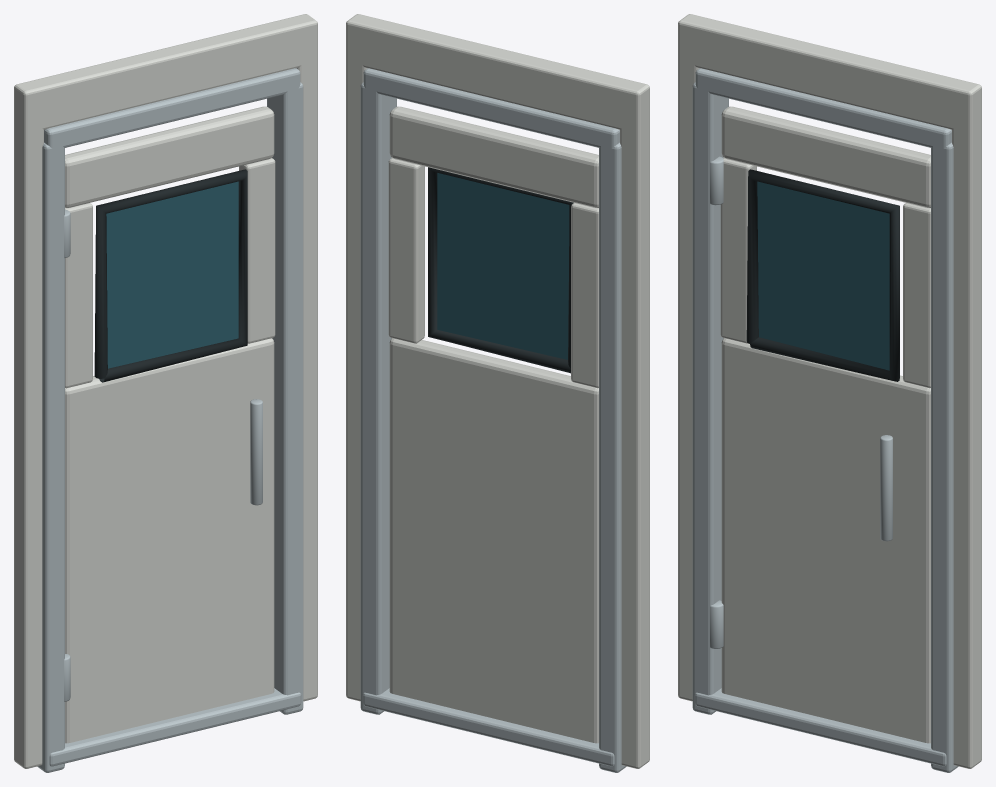
Rendered from door_wall_1m.glb.
The picture shows the model from 3 angles, left to right: view 1: azimuth 30°, elevation 25°; view 2: azimuth 150°, elevation 25°; view 3: azimuth 330°, elevation 25°; orthographic projection.
Parts seen in each view (by area): view 1: Door lower leaf.001, Door glazing.001, Door wall stile, Door jamb.003, Door wall lintel, Door jamb.002, Door upper leaf.001, Door wall stile.001, Window gasket.001, Door frame header.001, Door window stile.003, Door sill.001 (+2 smaller); view 2: Door lower leaf.001, Door glazing.001, Door wall stile, Door jamb.003, Door wall lintel, Door jamb.002, Door upper leaf.001, Door wall stile.001, Door window stile.003, Door frame header.001, Door window stile.002, Door sill.001 (+1 smaller); view 3: Door lower leaf.001, Door glazing.001, Door wall stile.001, Door jamb.002, Door wall lintel, Door jamb.003, Door upper leaf.001, Door wall stile, Window gasket.001, Door frame header.001, Door window stile.003, Door window stile.002 (+4 smaller).
Boxes of the visible parts, x1=… form: Door lower leaf.001: x1=65, y1=338, x2=274, y2=743; Door glazing.001: x1=106, y1=181, x2=238, y2=368; Door wall stile: x1=14, y1=81, x2=43, y2=768; Door jamb.003: x1=267, y1=82, x2=303, y2=714; Door wall lintel: x1=14, y1=14, x2=317, y2=132; Door jamb.002: x1=37, y1=142, x2=64, y2=772; Door upper leaf.001: x1=65, y1=106, x2=274, y2=207; Door wall stile.001: x1=292, y1=14, x2=317, y2=701; Window gasket.001: x1=94, y1=169, x2=247, y2=382; Door frame header.001: x1=44, y1=68, x2=300, y2=148; Door window stile.003: x1=239, y1=158, x2=275, y2=343; Door sill.001: x1=49, y1=688, x2=301, y2=766; Door lower leaf.001: x1=389, y1=338, x2=598, y2=743; Door glazing.001: x1=437, y1=173, x2=569, y2=359; Door wall stile: x1=620, y1=81, x2=649, y2=768; Door jamb.003: x1=360, y1=82, x2=396, y2=714; Door wall lintel: x1=346, y1=14, x2=649, y2=132; Door jamb.002: x1=599, y1=142, x2=626, y2=772; Door upper leaf.001: x1=389, y1=106, x2=598, y2=207; Door wall stile.001: x1=346, y1=14, x2=367, y2=701; Door window stile.003: x1=388, y1=158, x2=424, y2=343; Door frame header.001: x1=363, y1=68, x2=619, y2=148; Door window stile.002: x1=571, y1=203, x2=598, y2=388; Door sill.001: x1=362, y1=688, x2=614, y2=766; Door lower leaf.001: x1=721, y1=338, x2=930, y2=743; Door glazing.001: x1=757, y1=181, x2=889, y2=370; Door wall stile.001: x1=952, y1=82, x2=981, y2=768; Door jamb.002: x1=692, y1=82, x2=728, y2=714; Door wall lintel: x1=678, y1=14, x2=981, y2=132; Door jamb.003: x1=931, y1=142, x2=958, y2=772; Door upper leaf.001: x1=721, y1=106, x2=930, y2=207; Door wall stile: x1=678, y1=14, x2=703, y2=701; Window gasket.001: x1=746, y1=169, x2=899, y2=381; Door frame header.001: x1=695, y1=68, x2=951, y2=148; Door window stile.003: x1=903, y1=203, x2=930, y2=388; Door window stile.002: x1=720, y1=158, x2=756, y2=343.
Bounding box in the file's own units: 1 × 2.22 × 0.179.
